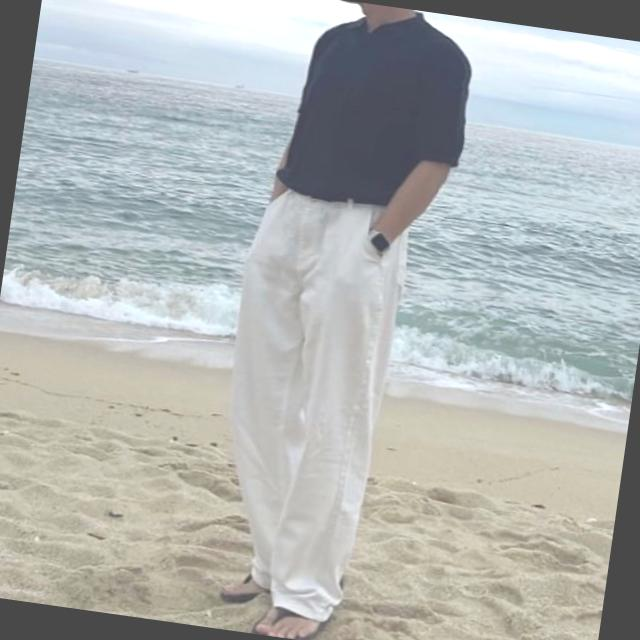cottonpants: (198, 183, 412, 628)
shortsleeve: (272, 0, 481, 219)
